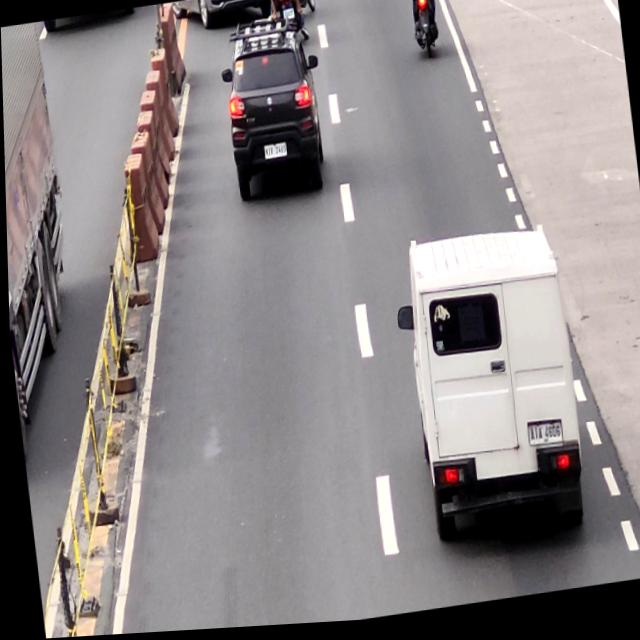Car: (387, 226, 588, 558), (216, 17, 333, 207)
License-Plate: (522, 424, 560, 453), (261, 145, 287, 164)
Motorcycle: (407, 0, 442, 67)
